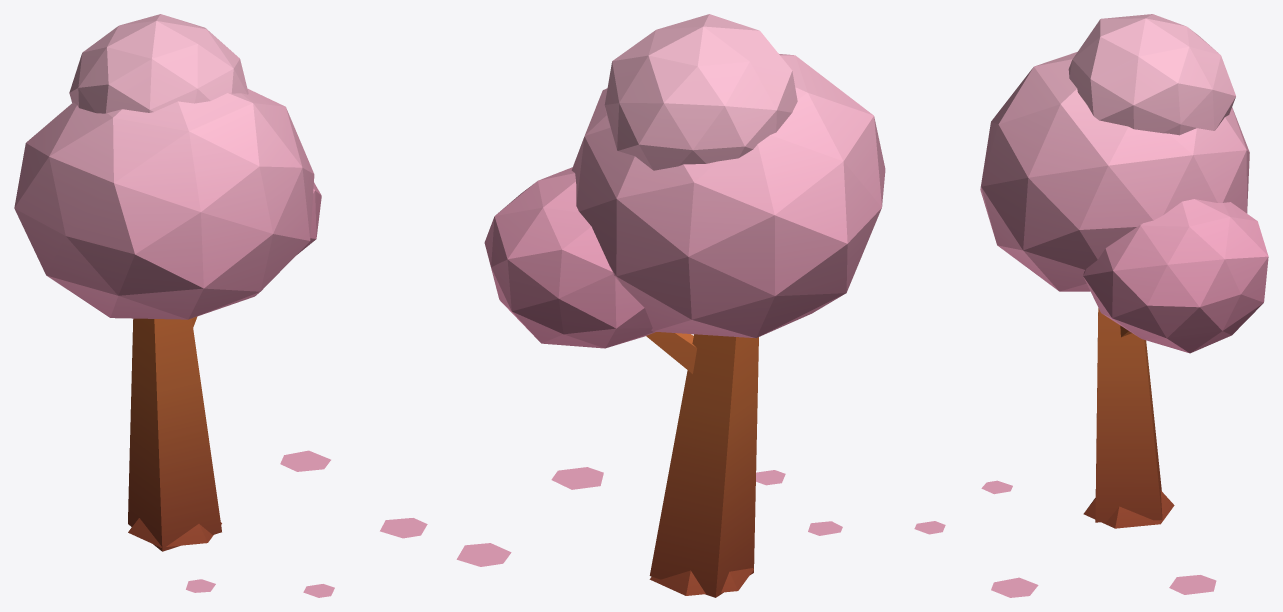
File: cherry_tree_b.5413cc892a.gltf
3 views of the same model, side by side, from view 1: azimuth 30°, elevation 25°; view 2: azimuth 150°, elevation 25°; view 3: azimuth 270°, elevation 25° (orthographic). The views are drawn at different scales.
Visible parts, largest first — view 1: cherry_tree_b; view 2: cherry_tree_b; view 3: cherry_tree_b.
Part boxes in pixels (x1=…): cherry_tree_b: x1=14, y1=14, x2=427, y2=597; cherry_tree_b: x1=456, y1=14, x2=885, y2=597; cherry_tree_b: x1=914, y1=14, x2=1268, y2=597.
Size of the model in its own units: 3.38 by 4.86 by 3.18.
1 material, 1 textured.
